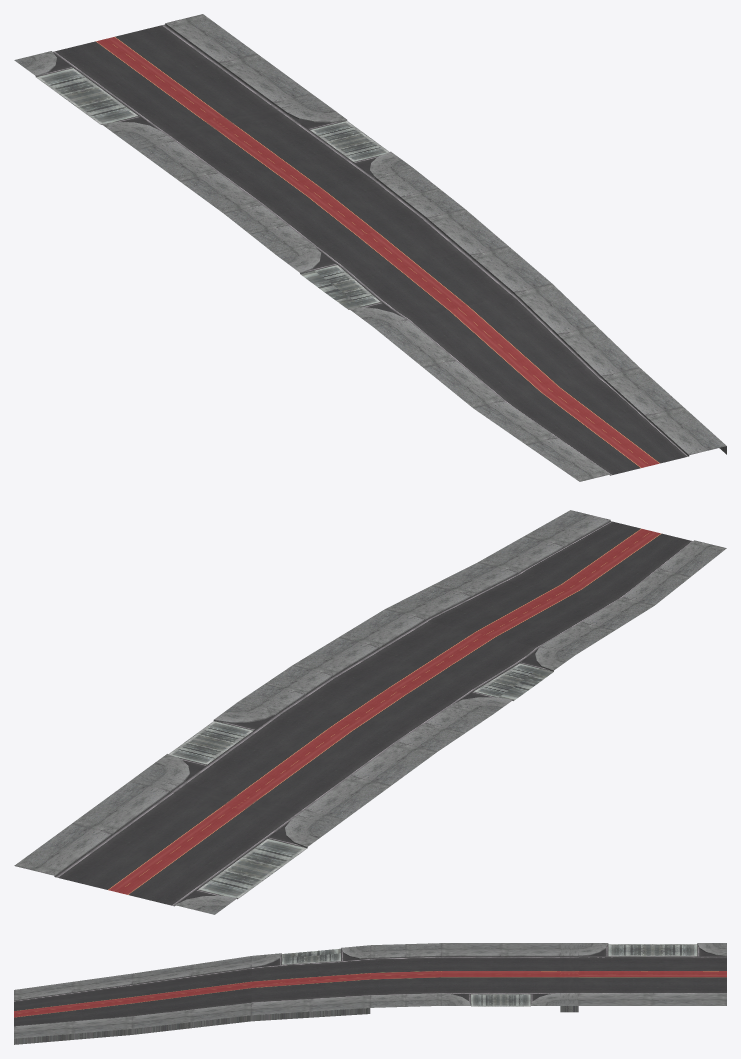
The model's file is roadssfse40.obj.
3 renders of one model, top to bottom at view 1: azimuth 30°, elevation 25°; view 2: azimuth 150°, elevation 25°; view 3: azimuth 270°, elevation 25°, orthographic. The views are drawn at different scales.
Parts seen in each view (by area): view 1: roadsSFSE40; view 2: roadsSFSE40; view 3: roadsSFSE40.
Part boxes in pixels (x1,y1,x2,y2): roadsSFSE40: (14,14,726,481); roadsSFSE40: (14,510,726,914); roadsSFSE40: (14,943,726,1044).
Bounding box in the file's own units: 25 × 7.25 × 120.
Materials: 4 (4 with a texture image).
